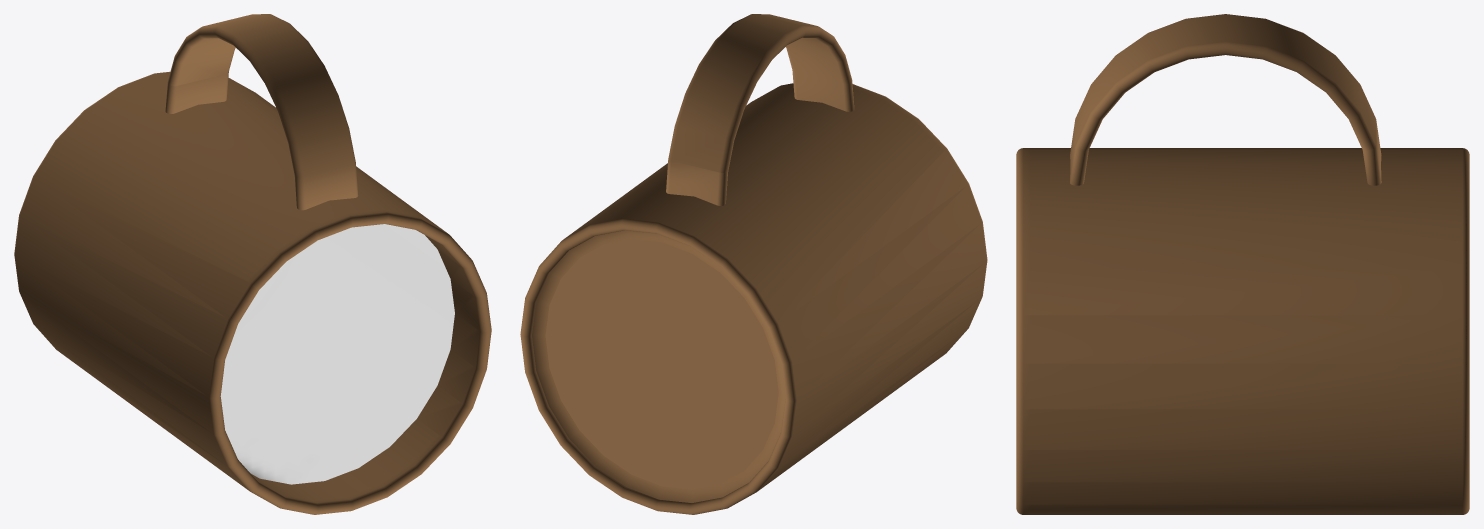
The model's file is model_scale.obj.
The picture shows the model from 3 angles, left to right: view 1: azimuth 30°, elevation 25°; view 2: azimuth 150°, elevation 25°; view 3: azimuth 270°, elevation 25°; orthographic projection. The views are drawn at different scales.
Parts seen in each view (by area): view 1: mesh4_mesh4-geometry, mesh1_mesh1-geometry; view 2: mesh4_mesh4-geometry, mesh1_mesh1-geometry; view 3: mesh4_mesh4-geometry, mesh1_mesh1-geometry.
Boxes of the visible parts, box(x1,y1,x2,y2) form: mesh4_mesh4-geometry: box(14, 71, 491, 514); mesh1_mesh1-geometry: box(165, 14, 358, 210); mesh4_mesh4-geometry: box(520, 83, 987, 514); mesh1_mesh1-geometry: box(666, 14, 854, 205); mesh4_mesh4-geometry: box(1016, 148, 1469, 514); mesh1_mesh1-geometry: box(1070, 14, 1381, 185).
Size of the model in its own units: 0.0753 by 0.1063 by 0.0927.
